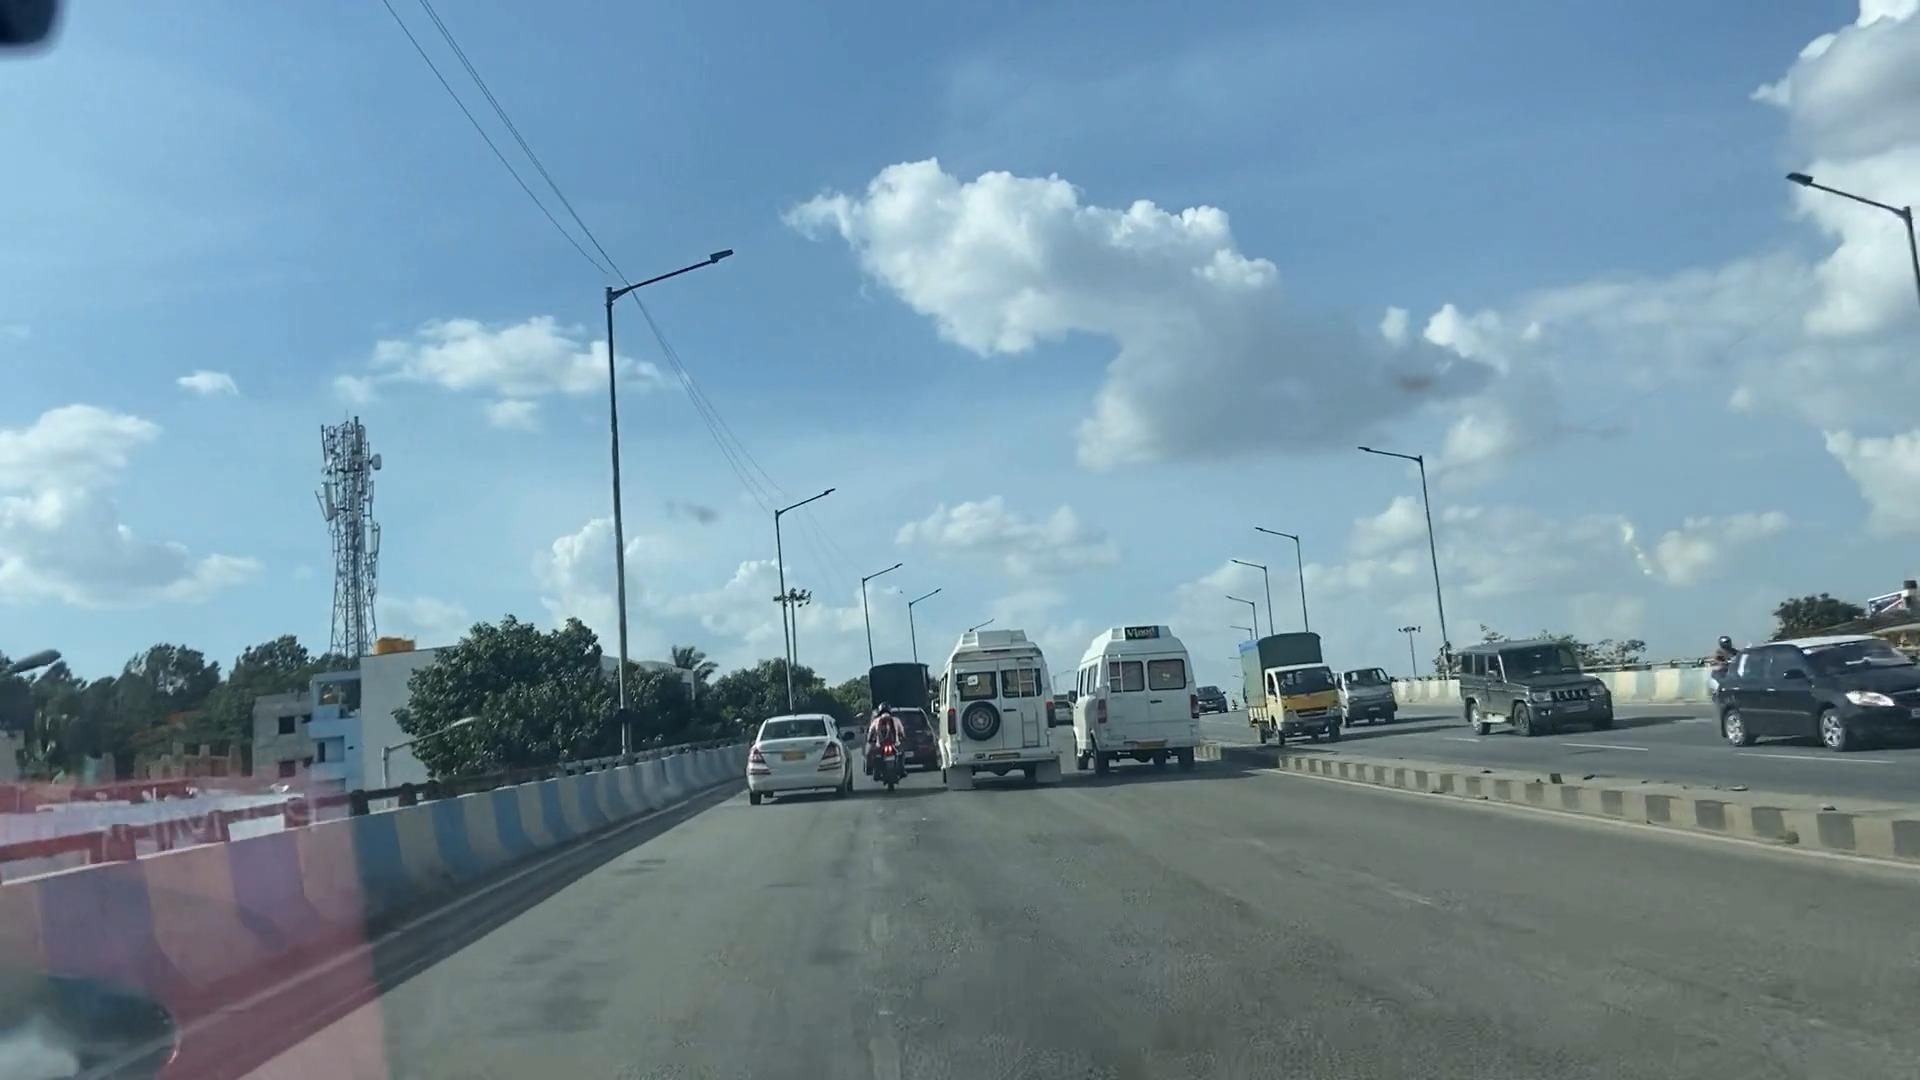HMV: (1076, 592, 1193, 786), (928, 618, 1060, 776)
LMV: (744, 690, 865, 807), (858, 702, 919, 786)
RoadDamages: (820, 890, 1473, 1076)
